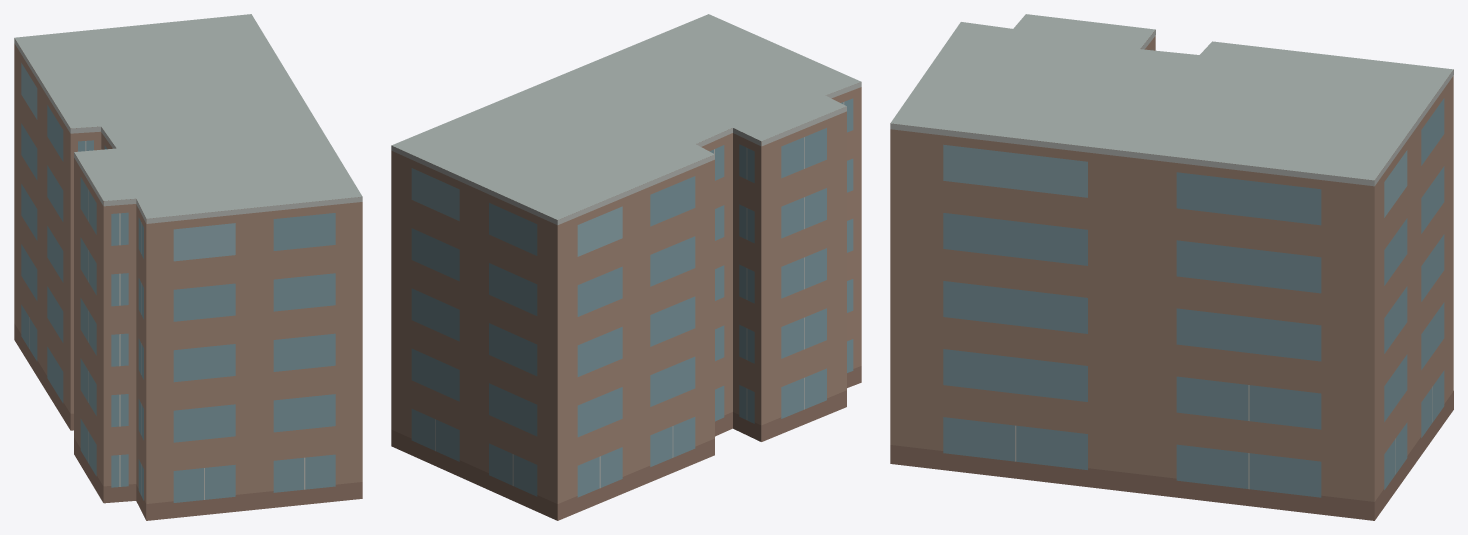
The model's file is survey-upis-32624716.glb.
3 renders of one model, left to right at view 1: azimuth 30°, elevation 25°; view 2: azimuth 150°, elevation 25°; view 3: azimuth 270°, elevation 25°, orthographic. The views are drawn at different scales.
Visible parts, largest first — view 1: survey-upis-32624716.tmp; view 2: survey-upis-32624716.tmp; view 3: survey-upis-32624716.tmp.
Part boxes in pixels (x1,y1,x2,y2): survey-upis-32624716.tmp: (14, 14, 362, 520); survey-upis-32624716.tmp: (391, 14, 861, 520); survey-upis-32624716.tmp: (890, 14, 1453, 520).
Size of the model in its own units: 14.86 by 14.16 by 21.25.
